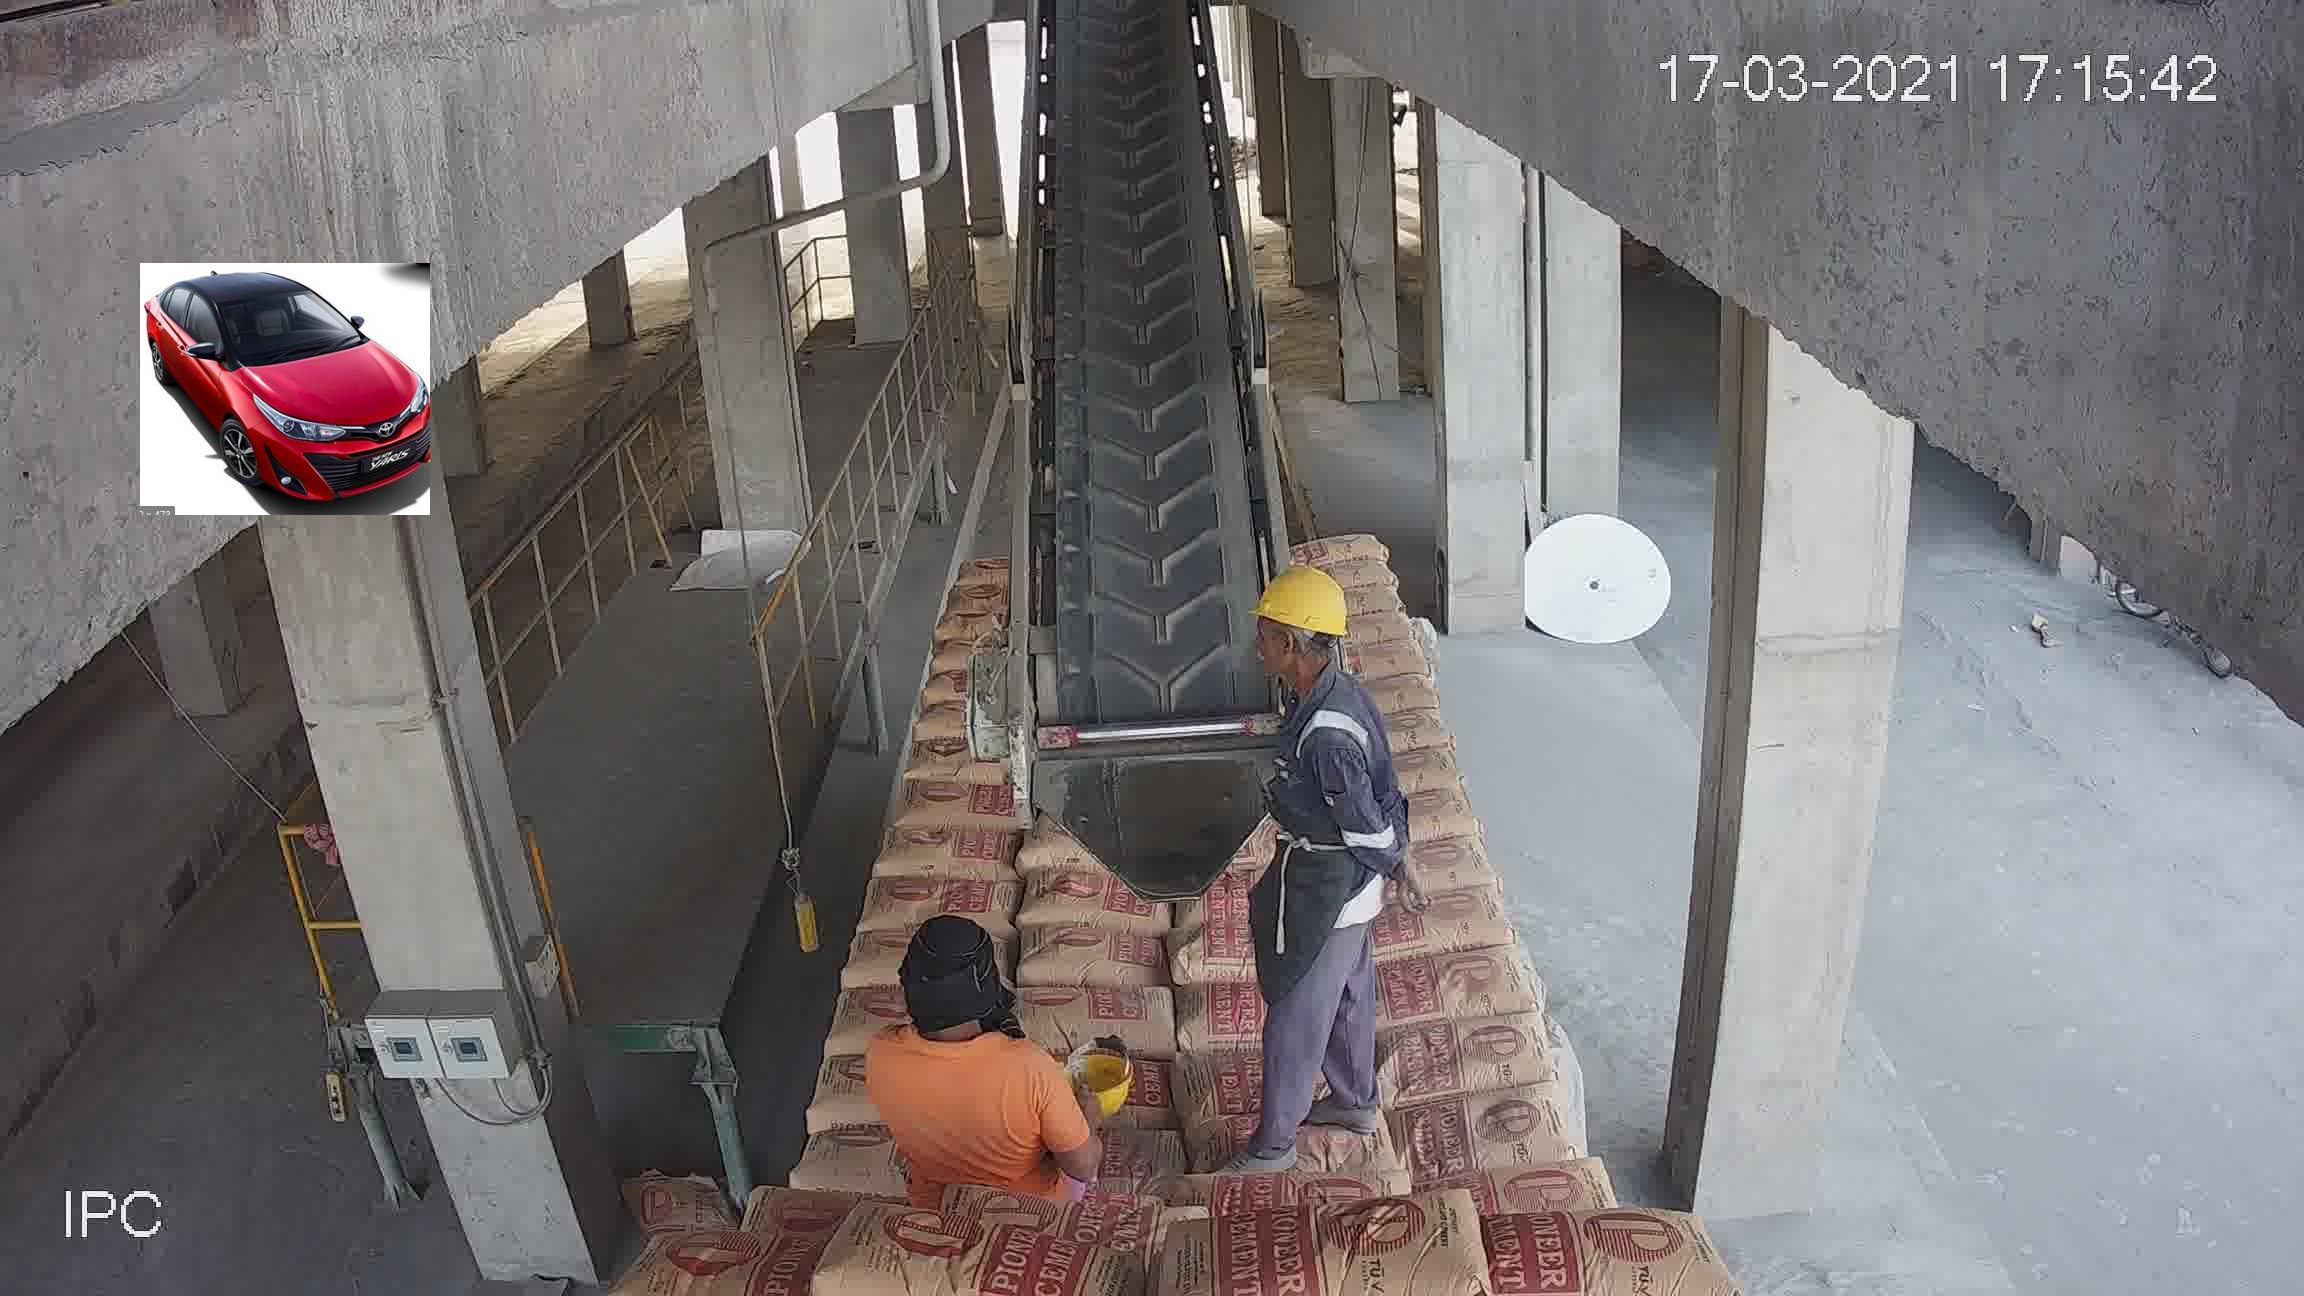bag_h: (1199, 1206, 1525, 1296), (1438, 1203, 1700, 1294), (821, 1226, 1108, 1296), (1415, 1079, 1600, 1176), (1375, 1014, 1556, 1108), (630, 1225, 850, 1296), (1364, 946, 1537, 1032), (1016, 916, 1166, 1002), (1435, 1161, 1608, 1225), (1370, 889, 1513, 965), (1180, 1173, 1400, 1220), (866, 826, 1029, 888), (1040, 987, 1188, 1054), (858, 869, 1025, 927), (900, 782, 1017, 834), (1396, 839, 1499, 896), (1290, 535, 1397, 578), (1291, 532, 1396, 573), (1328, 581, 1418, 619)
belt: (1022, 28, 1272, 786)
